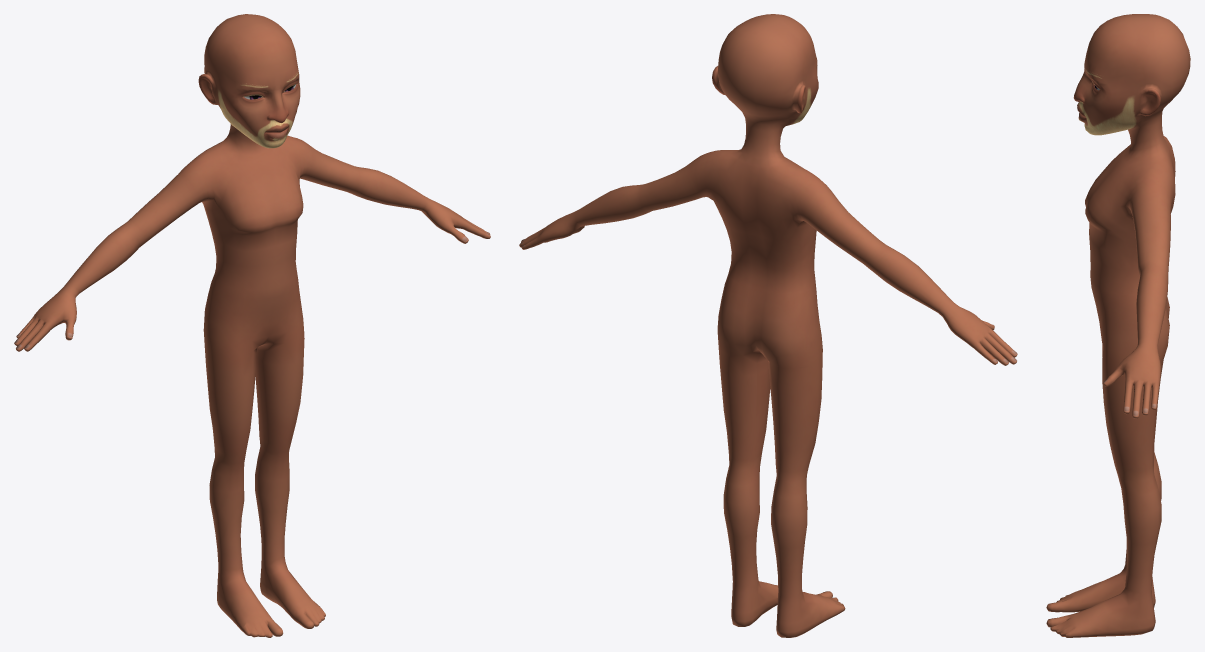
The model's file is frame_0010.glb.
The picture shows the model from 3 angles, left to right: view 1: azimuth 30°, elevation 25°; view 2: azimuth 150°, elevation 25°; view 3: azimuth 270°, elevation 25°; orthographic projection. The views are drawn at different scales.
Parts seen in each view (by area): view 1: frame_0010_head_geo; view 2: frame_0010_head_geo; view 3: frame_0010_head_geo.
Boxes of the visible parts, x1=… form: frame_0010_head_geo: x1=14, y1=14, x2=490, y2=637; frame_0010_head_geo: x1=519, y1=14, x2=1017, y2=637; frame_0010_head_geo: x1=1046, y1=14, x2=1190, y2=637.
Bounding box in the file's own units: 1.28 × 1.5 × 0.3253.
Materials: 3 (3 with a texture image).
